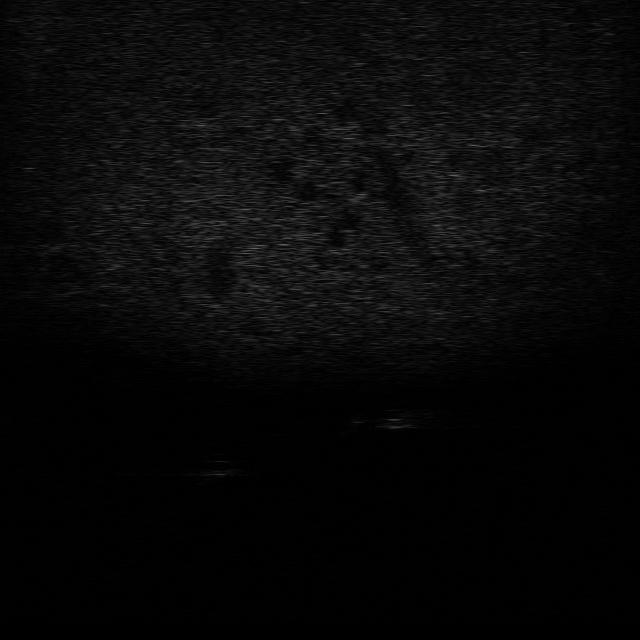ball: (191, 456, 241, 479)
human body: (345, 406, 443, 432)
